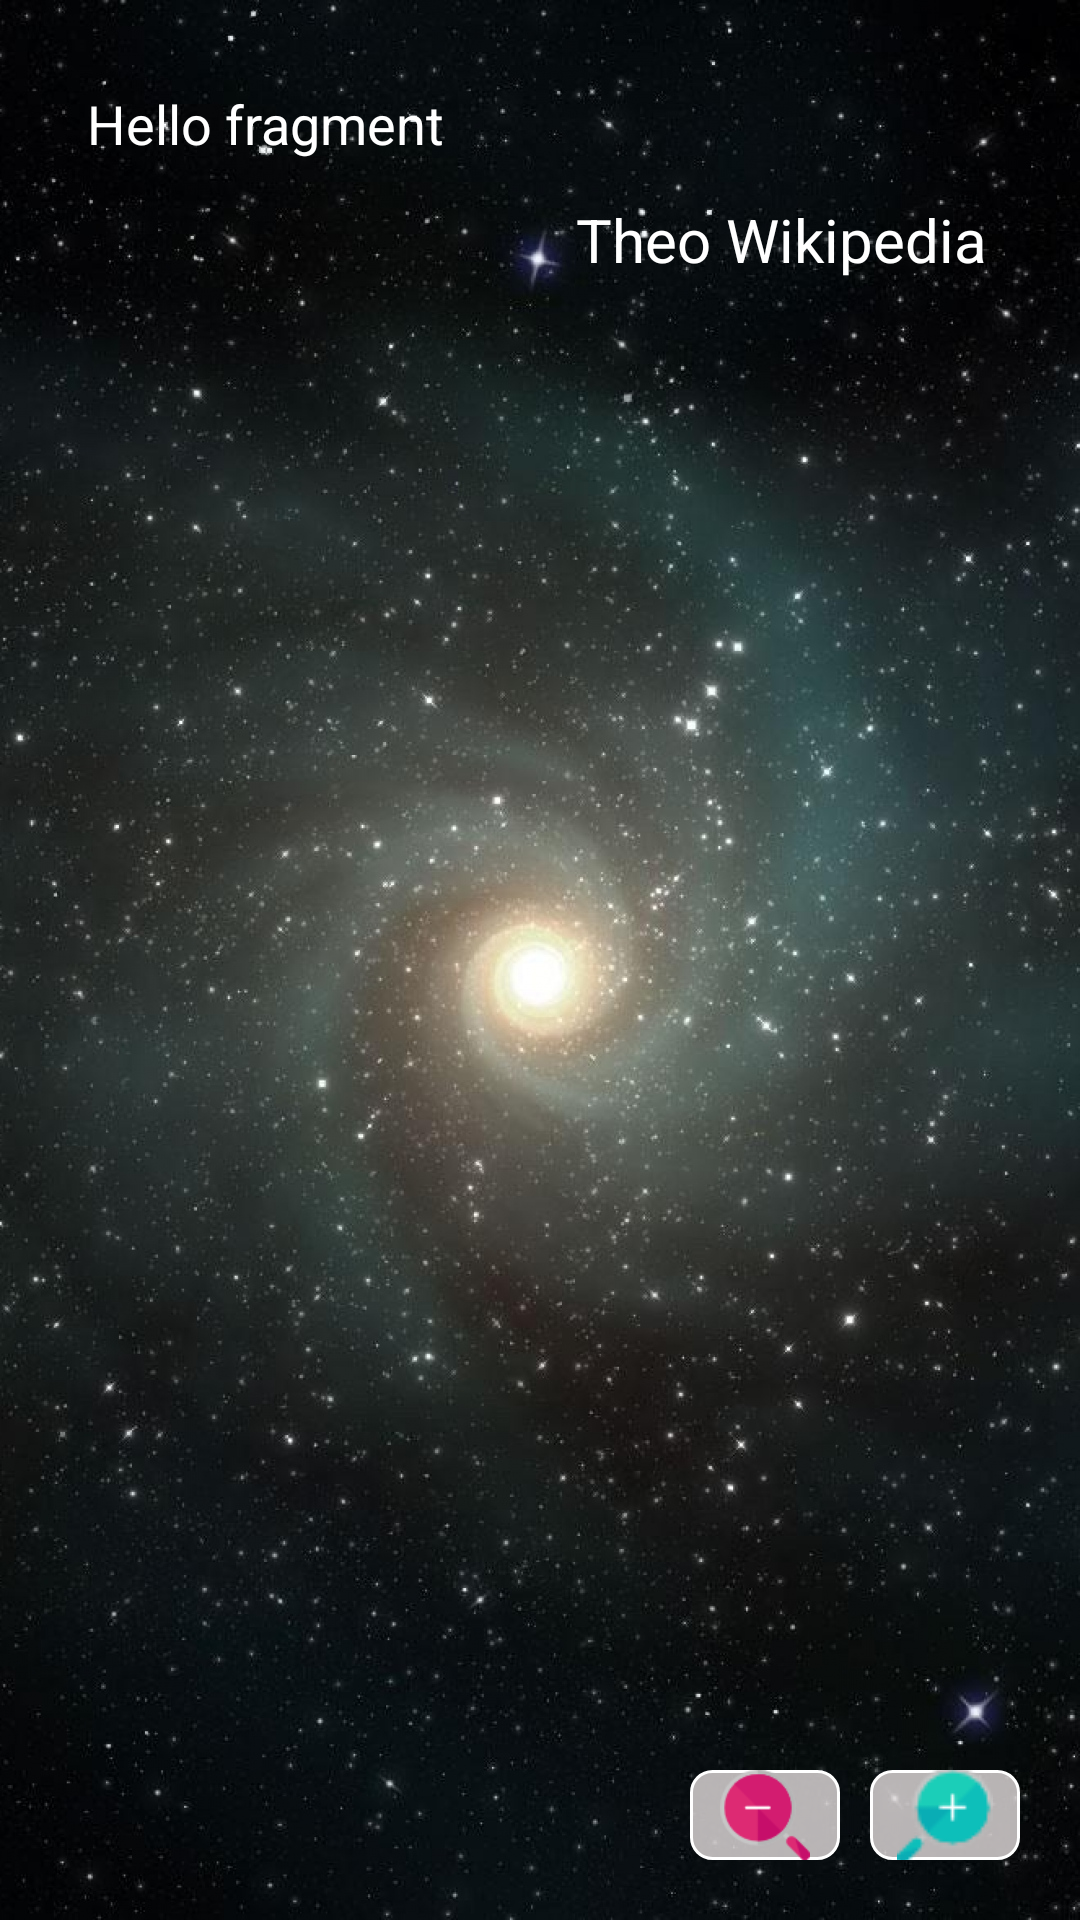

Screen size 1080px×1920px. Icon name, then its center in pixels as [x,y]:
zoom in: [945,1815]
zoom out: [765,1815]
